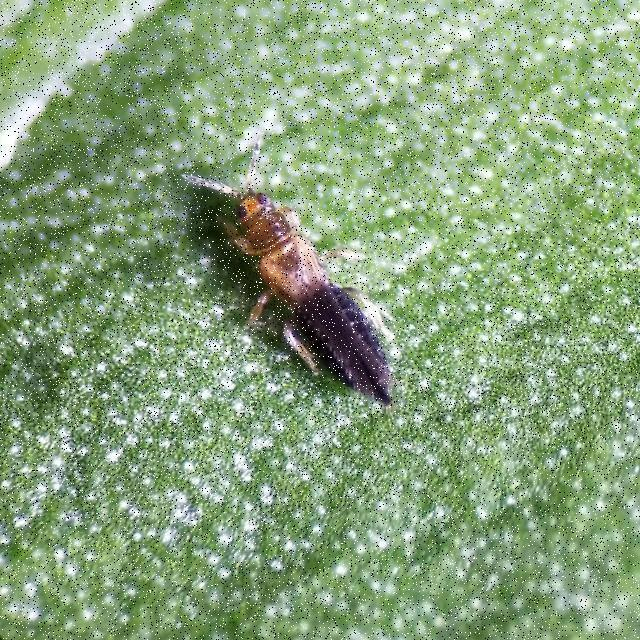Thrips: (196, 151, 422, 427)
